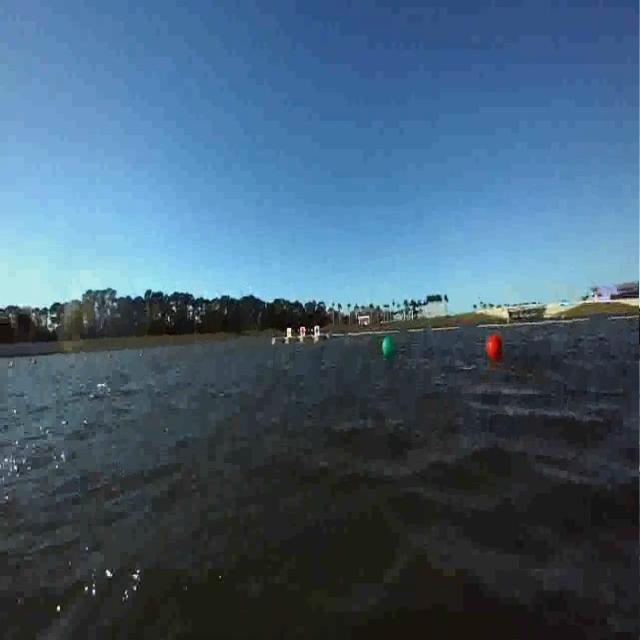green-buoy: (380, 337, 391, 358)
red-buoy: (487, 335, 502, 360)
